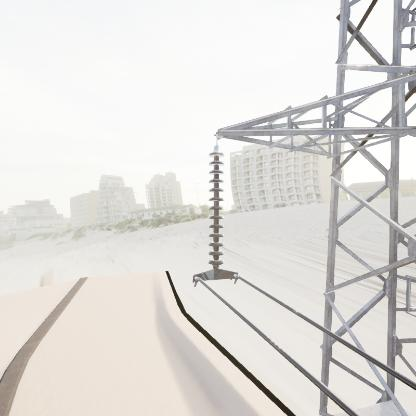insulator: (204, 148, 227, 272)
